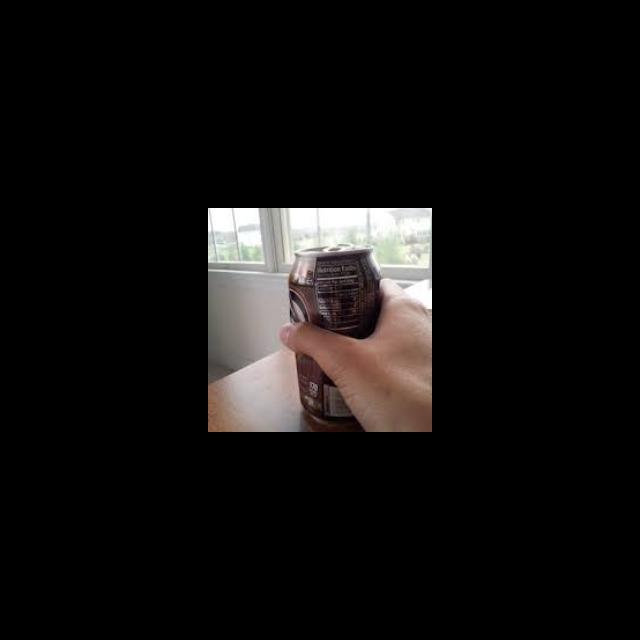metal: (284, 240, 385, 432)
